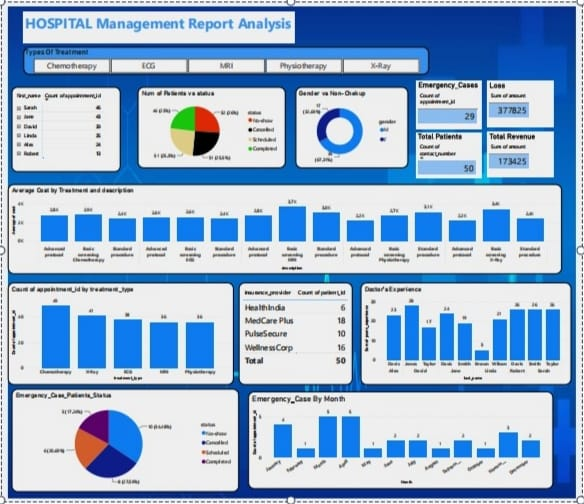

This screenshot's page, from the dashboard's own definition file:
{"tool":"powerbi","page":{"name":"Hospital Managemet Analysis","canvas":[1500,1300],"ordinal":0},"visuals":[{"type":"tableEx","title":"Total Patients","fields":{"Values":["Count(patients.contact_number)"]},"box":[1078.3,331.7,173.3,121.7],"z":0},{"type":"tableEx","title":"Total Revenue","fields":{"Values":["Sum(billing (2).amount)"]},"box":[1266.7,331.7,173.3,120],"z":1000},{"type":"tableEx","title":"Loss","fields":{"Values":["Sum(billing.amount)"]},"box":[1267.1,197.1,172.9,122.9],"z":2000},{"type":"tableEx","title":"Emergency_Cases","fields":{"Values":["Emergency_Cases.appointment_id"]},"box":[1078.6,195.7,172.9,128.6],"z":3000},{"type":"pivotTable","fields":{"Rows":["doctors.first_name","doctors.last_name"],"Values":["Count(appointments.appointment_id)"]},"box":[10,213.3,286.7,223.3],"z":4000},{"type":"clusteredColumnChart","title":"Average Cost by Treatment and description","fields":{"Y":["Avg(treatments.cost)"],"Category":["treatments.treatment_type","treatments.description"]},"box":[0,470,1463.3,236.7],"z":5000},{"type":"slicer","title":"Types Of Treatment","fields":{"Values":["treatments.treatment_type"]},"box":[41,106.8,1071.2,73.2],"z":6000},{"type":"pieChart","title":"Num of Patients vs status","fields":{"Category":["Appoinments.status"],"Y":["CountNonNull(Appoinments.appointment_id)"]},"box":[343.3,213.3,390,213.3],"z":7000},{"type":"donutChart","title":"Gender vs Non-Chekup","fields":{"Category":["patients.gender"],"Y":["Count(Died_Patients.appointment_id)"]},"box":[760,213.3,296.7,213.3],"z":8000},{"type":"textbox","box":[393.7,51.2,41,13.2],"z":9000},{"type":"textbox","box":[41,13.2,715.6,83.4],"z":10000},{"type":"clusteredColumnChart","fields":{"Category":["treatments.treatment_type"],"Y":["CountNonNull(treatments.appointment_id)"]},"box":[0,730,596.2,270],"z":11000},{"type":"pivotTable","fields":{"Rows":["patients.insurance_provider"],"Values":["CountNonNull(patients.patient_id)"]},"box":[610,730,300,270],"z":12000},{"type":"clusteredColumnChart","title":"Doctor''s Experience","fields":{"Category":["doctors.first_name","doctors.last_name"],"Y":["Sum(doctors.years_experience)"]},"box":[931.7,730,556.7,270],"z":13000},{"type":"pieChart","title":"Emergency_Case_Patients_Status","fields":{"Category":["Emergency_Cases.status"],"Y":["CountNonNull(Emergency_Cases.appointment_id)"]},"box":[10,1011.4,600,271.4],"z":14000},{"type":"clusteredColumnChart","title":"Emergency_Case By Month","fields":{"Category":["treatments.treatment_date.Variation.Date Hierarchy.Month"],"Y":["CountNonNull(Emergency_Cases.appointment_id)"]},"box":[635,1017.5,805,257.5],"z":15000}]}

Visuals, with their boxes in screenshot pixels (x1, y1, x2, y2), scaled from the page's 1500x1300 canvas onto the 584x504 screenshot:
"Total Patients" tableEx: Rect(420, 129, 487, 176)
"Total Revenue" tableEx: Rect(493, 129, 561, 175)
"Loss" tableEx: Rect(493, 76, 561, 124)
"Emergency_Cases" tableEx: Rect(420, 76, 487, 126)
pivotTable - doctors.first_name x doctors.last_name: Rect(4, 83, 116, 169)
"Average Cost by Treatment and description" clusteredColumnChart: Rect(0, 182, 570, 274)
"Types Of Treatment" slicer: Rect(16, 41, 433, 70)
"Num of Patients vs status" pieChart: Rect(134, 83, 285, 165)
"Gender vs Non-Chekup" donutChart: Rect(296, 83, 411, 165)
textbox: Rect(153, 20, 169, 25)
textbox: Rect(16, 5, 295, 37)
clusteredColumnChart - treatments.treatment_type x CountNonNull(treatments.appointment_id): Rect(0, 283, 232, 388)
pivotTable - patients.insurance_provider x CountNonNull(patients.patient_id): Rect(237, 283, 354, 388)
"Doctor''s Experience" clusteredColumnChart: Rect(363, 283, 579, 388)
"Emergency_Case_Patients_Status" pieChart: Rect(4, 392, 237, 497)
"Emergency_Case By Month" clusteredColumnChart: Rect(247, 394, 561, 494)
